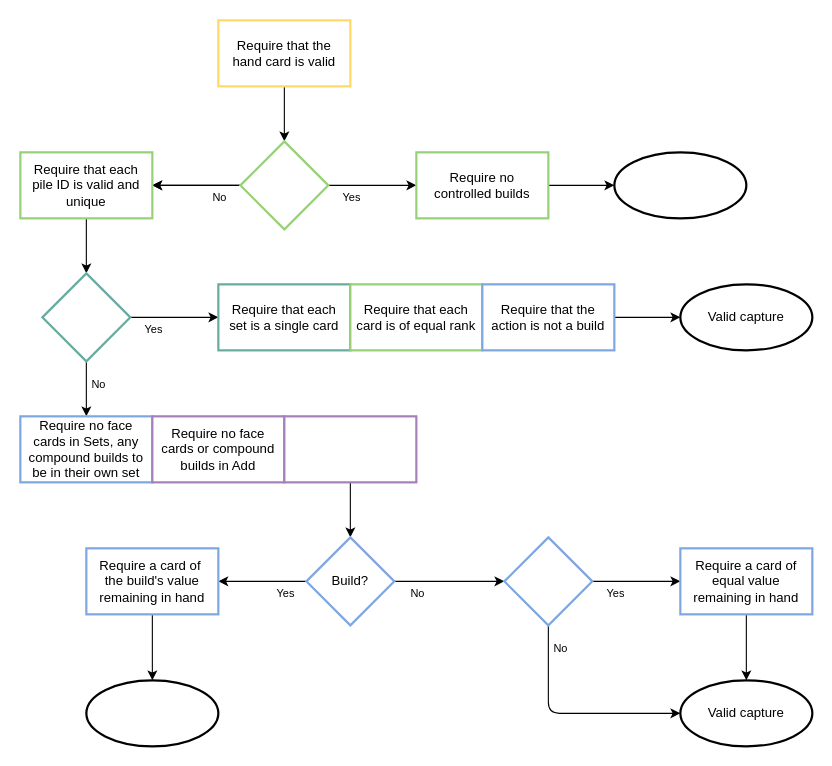
The diagram is 832 pixels wide and 766 high, and some of its shapes have lost their labels. The shapes that lost their labels are listed below. From the top down, each one's box as (x1, y1, x2, y2) in pixels, then its label:
(239, 140, 329, 230): Trail?
(613, 151, 747, 219): Valid trail
(41, 272, 131, 362): Face card?
(283, 415, 417, 483): Require that all set values equal hand card rank + Add values
(503, 536, 593, 626): Other controlled builds?
(85, 679, 219, 747): Valid build
